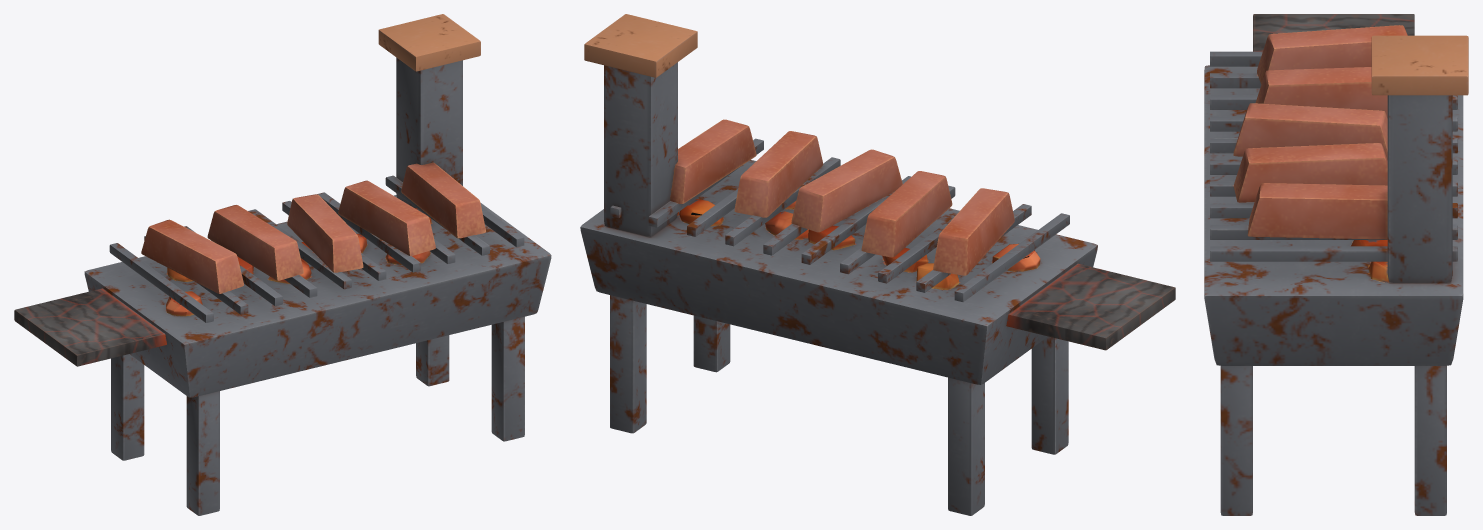
The model's file is Volcan_Grill.fbx.
3 renders of one model, left to right at view 1: azimuth 30°, elevation 25°; view 2: azimuth 150°, elevation 25°; view 3: azimuth 270°, elevation 25°, orthographic. The views are drawn at different scales.
Parts seen in each view (by area): view 1: Volcan_Grill; view 2: Volcan_Grill; view 3: Volcan_Grill.
Boxes of the visible parts, x1,y1,x2,y2 form: Volcan_Grill: [14, 14, 551, 515]; Volcan_Grill: [580, 14, 1175, 515]; Volcan_Grill: [1204, 14, 1468, 515].
Bounding box in the file's own units: 1257 × 920 × 490.
Materials: 1 (1 with a texture image).
